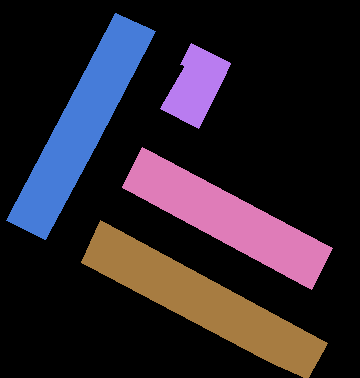parkingspot: (81, 220, 327, 377), (6, 13, 155, 239), (122, 147, 332, 289), (160, 43, 230, 128)
